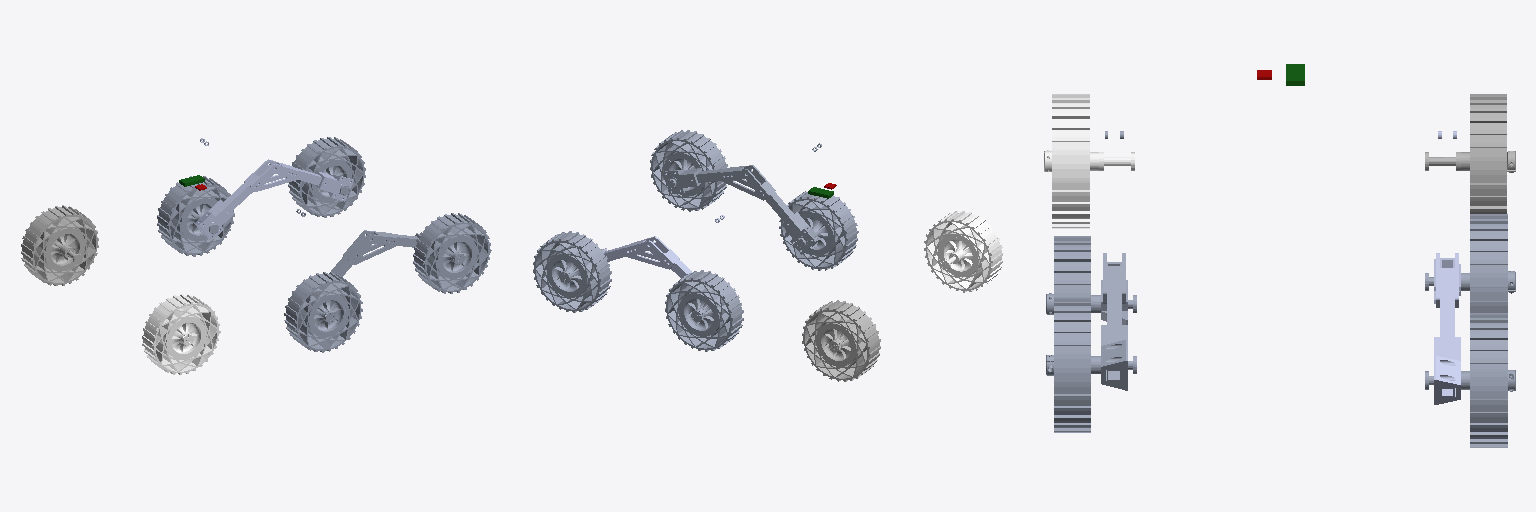
URDF robot description (rover):
<robot name="rover">
  <link name="base_link"/>
  <joint name="base_link_joint" type="fixed">
    <parent link="base_link"/>
    <child link="chassis"/>
    <origin xyz="0 0 0" rpy="0 0 0"/>
  </joint>
  <link
    name="chassis">
    <inertial>
      <origin
        xyz="-0.0584197742528739 -1.87173429318394E-05 0.100048316721529"
        rpy="0 0 0" />
      <mass
        value="22.9702313159612" />
      <inertia
        ixx="0.141165258251768"
        ixy="1.40109430878558E-06"
        ixz="-0.00149697070123729"
        iyy="0.198690083301802"
        iyz="-3.79691320033631E-07"
        izz="0.291025448460444" />
    </inertial>
    <visual>
      <origin
        xyz="0 0 0"
        rpy="0 0 0" />
      <geometry>
        <mesh
          filename="package://rover_description/meshes/chassis.STL" />
      </geometry>
      <material
        name="">
        <color
          rgba="0.650980392156863 0.619607843137255 0.588235294117647 1" />
      </material>
    </visual>
    <collision>
      <origin
        xyz="0 0 0"
        rpy="0 0 0" />
      <geometry>
        <mesh
          filename="package://rover_description/meshes/chassis.STL" />
      </geometry>
    </collision>
  </link>
  <link
    name="left_hub_link">
    <inertial>
      <origin
        xyz="0.0043509 0.011495 -0.086762"
        rpy="0 0 0" />
      <mass
        value="0.43743" />
      <inertia
        ixx="0.00032323"
        ixy="2.3773E-07"
        ixz="1.7929E-05"
        iyy="0.00098519"
        iyz="-4.7612E-06"
        izz="0.00077528" />
    </inertial>
    <visual>
      <origin
        xyz="0 0 0"
        rpy="0 0 0" />
      <geometry>
        <mesh
          filename="package://rover_description/meshes/left_hub_link.STL" />
      </geometry>
      <material
        name="">
        <color
          rgba="0.79216 0.81961 0.93333 1" />
      </material>
    </visual>
    <collision>
      <origin
        xyz="0 0 0"
        rpy="0 0 0" />
      <geometry>
        <mesh
          filename="package://rover_description/meshes/left_hub_link.STL" />
      </geometry>
    </collision>
  </link>
  <joint
    name="left_hub_joint"
    type="revolute">
    <origin
      xyz="0.24617 0.25899 -0.02379"
      rpy="0 0 0" />
    <parent
      link="chassis" />
    <child
      link="left_hub_link" />
    <axis
      xyz="0 -1 0" />
    <limit
      lower="-3.14"
      upper="3.14"
      effort="1"
      velocity="50" />
  </joint>
  <link
    name="left_front_wheel">
    <inertial>
      <origin
        xyz="-1.6989E-06 -0.031111 9.8985E-08"
        rpy="0 0 0" />
      <mass
        value="1.1548" />
      <inertia
        ixx="0.01"
        ixy="0"
        ixz="0"
        iyy="0.01"
        iyz="0"
        izz="0.01" />
    </inertial>
    <visual>
      <origin
        xyz="0 0 0"
        rpy="0 0 0" />
      <geometry>
        <mesh
          filename="package://rover_description/meshes/left_front_wheel.STL" />
      </geometry>
      <material
        name="">
        <color
          rgba="0.66667 0.69804 0.76863 1" />
      </material>
    </visual>
    <collision>
      <origin
        xyz="0 0 0"
        rpy="0 0 0" />
      <geometry>
        <mesh
          filename="package://rover_description/meshes/left_front_wheel.STL" />
      </geometry>
    </collision>
  </link>
  <joint
    name="left_front_joint"
    type="continuous">
    <origin
      xyz="0.217263894918702 0.109798 -0.111676144229464"
      rpy="0 0 0" />
    <parent
      link="left_hub_link" />
    <child
      link="left_front_wheel" />
    <axis
      xyz="0 -1 0" />
    <limit
      lower="0"
      upper="0"
      effort="22"
      velocity="57" />
  </joint>
  <link
    name="left_mid_wheel">
    <inertial>
      <origin
        xyz="9.3367E-07 -0.031111 1.4224E-06"
        rpy="0 0 0" />
      <mass
        value="1.1548" />
      <inertia
        ixx="0.01"
        ixy="0"
        ixz="0"
        iyy="0.01"
        iyz="0"
        izz="0.01" />
    </inertial>
    <visual>
      <origin
        xyz="0 0 0"
        rpy="0 0 0" />
      <geometry>
        <mesh
          filename="package://rover_description/meshes/left_mid_wheel.STL" />
      </geometry>
      <material
        name="">
        <color
          rgba="0.66667 0.69804 0.76863 1" />
      </material>
    </visual>
    <collision>
      <origin
        xyz="0 0 0"
        rpy="0 0 0" />
      <geometry>
        <mesh
          filename="package://rover_description/meshes/left_mid_wheel.STL" />
      </geometry>
    </collision>
  </link>
  <joint
    name="left_mid_joint"
    type="continuous">
    <origin
      xyz="-0.205346325358771 0.109798 -0.13231798021001"
      rpy="0 0 0" />
    <parent
      link="left_hub_link" />
    <child
      link="left_mid_wheel" />
    <axis
      xyz="0 -1 0" />
    <limit
      lower="0"
      upper="0"
      effort="22"
      velocity="57" />
  </joint>
  <link
    name="right_hub_link">
    <inertial>
      <origin
        xyz="0.0174630738404854 -0.00831974620024573 -0.0850476178756101"
        rpy="0 0 0" />
      <mass
        value="0.437428680791758" />
      <inertia
        ixx="0.00032823008462876"
        ixy="-9.45568218961581E-07"
        ixz="-5.05577889254412E-05"
        iyy="0.000985186594170562"
        iyz="4.67237730248651E-06"
        izz="0.000770278551890062" />
    </inertial>
    <visual>
      <origin
        xyz="0 0 0"
        rpy="0 0 0" />
      <geometry>
        <mesh
          filename="package://rover_description/meshes/right_hub_link.STL" />
      </geometry>
      <material
        name="">
        <color
          rgba="0.666666666666667 0.698039215686274 0.768627450980392 1" />
      </material>
    </visual>
    <collision>
      <origin
        xyz="0 0 0"
        rpy="0 0 0" />
      <geometry>
        <mesh
          filename="package://rover_description/meshes/right_hub_link.STL" />
      </geometry>
    </collision>
  </link>
  <joint
    name="right_hub_joint"
    type="revolute">
    <origin
      xyz="0.24617 -0.25899 -0.02379"
      rpy="0 0 0" />
    <parent
      link="chassis" />
    <child
      link="right_hub_link" />
    <axis
      xyz="0 -1 0" />
    <limit
      lower="-3.14"
      upper="3.14"
      effort="1"
      velocity="50" />
  </joint>
  <link
    name="right_front_wheel">
    <inertial>
      <origin
        xyz="-1.2563E-06 0.031111 1.1477E-06"
        rpy="0 0 0" />
      <mass
        value="1.1548" />
      <inertia
        ixx="0.01"
        ixy="0"
        ixz="0"
        iyy="0.01"
        iyz="0"
        izz="0.01" />
    </inertial>
    <visual>
      <origin
        xyz="0 0 0"
        rpy="0 0 0" />
      <geometry>
        <mesh
          filename="package://rover_description/meshes/right_front_wheel.STL" />
      </geometry>
      <material
        name="">
        <color
          rgba="0.66667 0.69804 0.76863 1" />
      </material>
    </visual>
    <collision>
      <origin
        xyz="0 0 0"
        rpy="0 0 0" />
      <geometry>
        <mesh
          filename="package://rover_description/meshes/right_front_wheel.STL" />
      </geometry>
    </collision>
  </link>
  <joint
    name="right_front_joint"
    type="continuous">
    <origin
      xyz="0.23167 -0.10662 -0.077493"
      rpy="0 0 0" />
    <parent
      link="right_hub_link" />
    <child
      link="right_front_wheel" />
    <axis
      xyz="0 -1 0" />
    <limit
      lower="0"
      upper="0"
      effort="22"
      velocity="57" />
  </joint>
  <link
    name="right_mid_wheel">
    <inertial>
      <origin
        xyz="1.6223E-06 0.031111 5.1534E-07"
        rpy="0 0 0" />
      <mass
        value="1.1548" />
      <inertia
        ixx="0.01"
        ixy="0"
        ixz="0"
        iyy="0.01"
        iyz="0"
        izz="0.01" />
    </inertial>
    <visual>
      <origin
        xyz="0 0 0"
        rpy="0 0 0" />
      <geometry>
        <mesh
          filename="package://rover_description/meshes/right_mid_wheel.STL" />
      </geometry>
      <material
        name="">
        <color
          rgba="0.66667 0.69804 0.76863 1" />
      </material>
    </visual>
    <collision>
      <origin
        xyz="0 0 0"
        rpy="0 0 0" />
      <geometry>
        <mesh
          filename="package://rover_description/meshes/right_mid_wheel.STL" />
      </geometry>
    </collision>
  </link>
  <joint
    name="right_mid_joint"
    type="continuous">
    <origin
      xyz="-0.18294 -0.10662 -0.16188"
      rpy="0 0 0" />
    <parent
      link="right_hub_link" />
    <child
      link="right_mid_wheel" />
    <axis
      xyz="0 -1 0" />
    <limit
      lower="0"
      upper="0"
      effort="22"
      velocity="57" />
  </joint>
  <link
    name="left_back_wheel">
    <inertial>
      <origin
        xyz="1.002E-06 -0.031111 1.3752E-06"
        rpy="0 0 0" />
      <mass
        value="1.1548" />
      <inertia
        ixx="0.01"
        ixy="0"
        ixz="0"
        iyy="0.01"
        iyz="0"
        izz="0.01" />
    </inertial>
    <visual>
      <origin
        xyz="0 0 0"
        rpy="0 0 0" />
      <geometry>
        <mesh
          filename="package://rover_description/meshes/left_back_wheel.STL" />
      </geometry>
      <material
        name="">
        <color
          rgba="0.75294 0.75294 0.75294 1" />
      </material>
    </visual>
    <collision>
      <origin
        xyz="0 0 0"
        rpy="0 0 0" />
      <geometry>
        <mesh
          filename="package://rover_description/meshes/left_back_wheel.STL" />
      </geometry>
    </collision>
  </link>
  <joint
    name="left_back_joint"
    type="continuous">
    <origin
      xyz="-0.3984 0.36878 -0.14593"
      rpy="0 0 0" />
    <parent
      link="chassis" />
    <child
      link="left_back_wheel" />
    <axis
      xyz="0 -1 0" />
    <limit
      lower="0"
      upper="0"
      effort="22"
      velocity="57" />
  </joint>
  <link
    name="right_back_wheel">
    <inertial>
      <origin
        xyz="0 0 0"
        rpy="0 0 0" />
      <mass
        value="1.1548" />
      <inertia
        ixx="0.01"
        ixy="0"
        ixz="0"
        iyy="0.01"
        iyz="0"
        izz="0.01" />
    </inertial>
    <visual>
      <origin
        xyz="0 0 0"
        rpy="0 0 0" />
      <geometry>
        <mesh
          filename="package://rover_description/meshes/right_back_wheel.STL" />
      </geometry>
      <material
        name="">
        <color
          rgba="1 1 1 1" />
      </material>
    </visual>
    <collision>
      <origin
        xyz="0 0 0"
        rpy="0 0 0" />
      <geometry>
        <mesh
          filename="package://rover_description/meshes/right_back_wheel.STL" />
      </geometry>
    </collision>
  </link>
  <joint
    name="right_back_joint"
    type="continuous">
    <origin
      xyz="-0.398397807372039 -0.368783 -0.145930651885583"
      rpy="0 0 0" />
    <parent
      link="chassis" />
    <child
      link="right_back_wheel" />
    <axis
      xyz="0 -1 0" />
    <limit
      lower="0"
      upper="0"
      effort="22"
      velocity="57" />
  </joint>

  <link name="gps_link">
    <inertial>
      <mass value="0.01"/>
      <inertia ixx="0.0001" ixy="0" ixz="0" iyy="0.0001" iyz="0" izz="0.0001"/>
    </inertial>
    <visual>
      <geometry>
        <box size="0.065 0.0305 0.010"/>
      </geometry>
      <material name="gps_green">
        <color rgba="0.1 0.4 0.1 1"/>
      </material>
    </visual>
  </link>
  <joint name="gps_joint" type="fixed">
    <parent link="chassis"/>
    <child link="gps_link"/>
    <origin xyz="-0.1524 0.025 0.1238" rpy="0 0 0"/>
  </joint>
  <gazebo reference="gps_link">
    <sensor name="navsat" type="gps">
      <always_on>true</always_on>
      <update_rate>10</update_rate>
      <gps>
        <position_sensing>
          <horizontal>
            <noise type="gaussian">
              <mean>0.0</mean>
              <stddev>0.5</stddev>
            </noise>
          </horizontal>
          <vertical>
            <noise type="gaussian">
              <mean>0.0</mean>
              <stddev>1.0</stddev>
            </noise>
          </vertical>
        </position_sensing>
      </gps>
      <plugin name="gps_controller" filename="libgazebo_ros_gps_sensor.so">
        <ros>
          <namespace>/rover</namespace>
          <remapping>~/out:=/gps/fix</remapping>
        </ros>
        <frame_name>gps_link</frame_name>
      </plugin>
    </sensor>
  </gazebo>

  <link name="zed_camera_link">
    <visual>
      <geometry>
        <mesh filename="package://rover_description/meshes/zed2i.stl"/>
      </geometry>
      <material name="dark_gray">
        <color rgba="0.15 0.15 0.15 1"/>
      </material>
    </visual>
  </link>

  <joint name="zed_camera_joint" type="fixed">
    <parent link="chassis"/>
    <child link="zed_camera_link"/>
    <origin xyz="0.2921 0 0.10" rpy="0 0 0"/>
  </joint>

  <gazebo reference="zed_camera_link">
    <material>Gazebo/DarkGrey</material>
  </gazebo>


  <link name="zed_camera_optical_frame"/>

  <joint name="zed_camera_optical_joint" type="fixed">
    <parent link="zed_camera_link"/>
    <child link="zed_camera_optical_frame"/>
    <origin xyz="0 0 0" rpy="-1.5708 0 -1.5708"/>
  </joint>

  <link name="zed_imu_link"/>

  <gazebo reference="zed_camera_link">
    <sensor name="zed_depth_camera" type="depth">
      <always_on>true</always_on>
      <update_rate>30</update_rate>

      <camera>
        <horizontal_fov>1.92</horizontal_fov>

        <image>
          <width>640</width>
          <height>480</height>
          <format>R8G8B8</format>
        </image>

        <clip>
          <near>0.2</near>
          <far>20.0</far>
        </clip>
      </camera>

      <plugin name="zed_depth_camera_plugin"
              filename="libgazebo_ros_camera.so">
        <ros>
          <namespace>/zed</namespace>
          <remapping>image_raw:=/rgb/image_raw</remapping>
          <remapping>depth/image_raw:=/depth/image_raw</remapping>
          <remapping>camera_info:=/rgb/camera_info</remapping>
          <remapping>depth/camera_info:=/depth/camera_info</remapping>
          <remapping>points:=/depth/points</remapping>
        </ros>
        <camera_name>zed_depth_camera</camera_name>
        <frame_name>zed_camera_optical_frame</frame_name>
        <min_depth>0.2</min_depth>
        <max_depth>20.0</max_depth>
      </plugin>
    </sensor>
    <sensor name="zed_imu_sensor" type="imu">
      <always_on>true</always_on>
      <update_rate>100</update_rate>
      <plugin name="zed_imu_plugin" filename="libgazebo_ros_imu_sensor.so">
        <ros>
          <namespace>/zed</namespace>
          <remapping>~/out:=/zed/zed_node/imu/data</remapping>
        </ros>
        <frame_name>zed_imu_link</frame_name>
        <initial_orientation_as_reference>false</initial_orientation_as_reference>
      </plugin>
    </sensor>
  </gazebo>

  <joint name="zed_imu_joint" type="fixed">
    <parent link="zed_camera_link"/>
    <child link="zed_imu_link"/>
    <origin xyz="0.0 0.0 0.0" rpy="0.0 0.0 0.0"/>
  </joint>

  <link name="imu_link">
    <inertial>
      <mass value="0.01"/>
      <inertia ixx="0.0001" ixy="0" ixz="0" iyy="0.0001" iyz="0" izz="0.0001"/>
    </inertial>
    <visual>
      <geometry>
        <box size="0.0254 0.0254 0.005"/>
      </geometry>
      <material name="imu_red">
        <color rgba="0.7 0.05 0.05 1"/>
      </material>
    </visual>
  </link>
  <joint name="imu_joint" type="fixed">
    <parent link="chassis"/>
    <child link="imu_link"/>
    <origin xyz="-0.1524 -0.025 0.1238" rpy="0 0 0"/>
  </joint>
  <gazebo reference="imu_link">
    <sensor name="imu_sensor" type="imu">
      <always_on>true</always_on>
      <update_rate>50</update_rate>
      <imu>
        <angular_velocity>
          <x>
            <noise type="gaussian">
              <mean>0.0</mean>
              <stddev>0.0</stddev>
            </noise>
          </x>
          <y>
            <noise type="gaussian">
              <mean>0.0</mean>
              <stddev>0.0</stddev>
            </noise>
          </y>
          <z>
            <noise type="gaussian">
              <mean>0.0</mean>
              <stddev>0.0</stddev>
            </noise>
          </z>
        </angular_velocity>
        <linear_acceleration>
          <x>
            <noise type="gaussian">
              <mean>0.0</mean>
              <stddev>0.0</stddev>
            </noise>
          </x>
          <y>
            <noise type="gaussian">
              <mean>0.0</mean>
              <stddev>0.0</stddev>
            </noise>
          </y>
          <z>
            <noise type="gaussian">
              <mean>0.0</mean>
              <stddev>0.0</stddev>
            </noise>
          </z>
        </linear_acceleration>
      </imu>
      <plugin name="imu_controller" filename="libgazebo_ros_imu_sensor.so">
        <ros>
          <namespace>/rover</namespace>
          <remapping>~/out:=imu/data</remapping>
        </ros>
        <frame_name>imu_link</frame_name>
      </plugin>
    </sensor>
  </gazebo>

  <ros2_control name="Rover" type="system">
    <hardware>
      <plugin>gazebo_ros2_control/GazeboSystem</plugin>
    </hardware>

    <joint name="left_front_joint">
      <command_interface name="velocity"/>
      <state_interface name="position"/>
      <state_interface name="velocity"/>
    </joint>

    <joint name="left_mid_joint">
      <command_interface name="velocity"/>
      <state_interface name="position"/>
      <state_interface name="velocity"/>
    </joint>

    <joint name="left_back_joint">
      <command_interface name="velocity"/>
      <state_interface name="position"/>
      <state_interface name="velocity"/>
    </joint>

    <joint name="right_front_joint">
      <command_interface name="velocity"/>
      <state_interface name="position"/>
      <state_interface name="velocity"/>
    </joint>

    <joint name="right_mid_joint">
      <command_interface name="velocity"/>
      <state_interface name="position"/>
      <state_interface name="velocity"/>
    </joint>

    <joint name="right_back_joint">
      <command_interface name="velocity"/>
      <state_interface name="position"/>
      <state_interface name="velocity"/>
    </joint>
  </ros2_control>

  <gazebo>
    <plugin name="gazebo_ros2_control" filename="libgazebo_ros2_control.so">
      <parameters>@ROVER_CONTROLLER_CONFIG@</parameters>
    </plugin>
  </gazebo>
</robot>

--- What the picture shows (computed from the rendered views, not written in the file) ---
Views: 3 orthographic renders of the robot side by side, from view 1: azimuth 30°, elevation 25°; view 2: azimuth 150°, elevation 25°; view 3: azimuth 270°, elevation 25°.
Model rover with 15 links and 14 joints (2 revolute, 6 continuous, 6 fixed), rooted at base_link, posed all joints at 0.
Visible links, largest first — view 1: right_front_wheel, right_mid_wheel, left_back_wheel, right_back_wheel, left_front_wheel, left_mid_wheel, left_hub_link, right_hub_link; view 2: right_back_wheel, left_back_wheel, left_front_wheel, left_mid_wheel, right_front_wheel, right_mid_wheel, right_hub_link, left_hub_link; view 3: right_back_wheel, left_front_wheel, right_front_wheel, left_back_wheel, left_mid_wheel, left_hub_link, right_hub_link, right_mid_wheel.
Link boxes in pixels (x1,y1,x2,y2): right_front_wheel: (413, 213, 491, 293); right_mid_wheel: (284, 272, 362, 352); left_back_wheel: (21, 205, 98, 285); right_back_wheel: (142, 294, 220, 374); left_front_wheel: (288, 137, 365, 217); left_mid_wheel: (157, 176, 234, 256); left_hub_link: (194, 138, 353, 240); right_hub_link: (296, 209, 420, 276); right_back_wheel: (924, 211, 1002, 292); left_back_wheel: (802, 300, 880, 381); left_front_wheel: (533, 231, 611, 312); left_mid_wheel: (665, 270, 743, 351); right_front_wheel: (650, 130, 727, 211); right_mid_wheel: (779, 191, 858, 270); right_hub_link: (663, 143, 821, 254); left_hub_link: (601, 215, 724, 278); right_back_wheel: (1044, 94, 1134, 228); left_front_wheel: (1425, 313, 1515, 447); right_front_wheel: (1046, 297, 1136, 432); left_back_wheel: (1425, 94, 1515, 213); left_mid_wheel: (1425, 214, 1515, 312); left_hub_link: (1434, 131, 1460, 404); right_hub_link: (1101, 131, 1127, 390); right_mid_wheel: (1046, 236, 1136, 314).
Size in the robot's own frame: 1.1 by 0.7636 by 0.4245 metres.
8 mesh visuals loaded from 10 distinct referenced files (8 binary STL); not drawn: 2 (reference not matched to a file when rendering).
